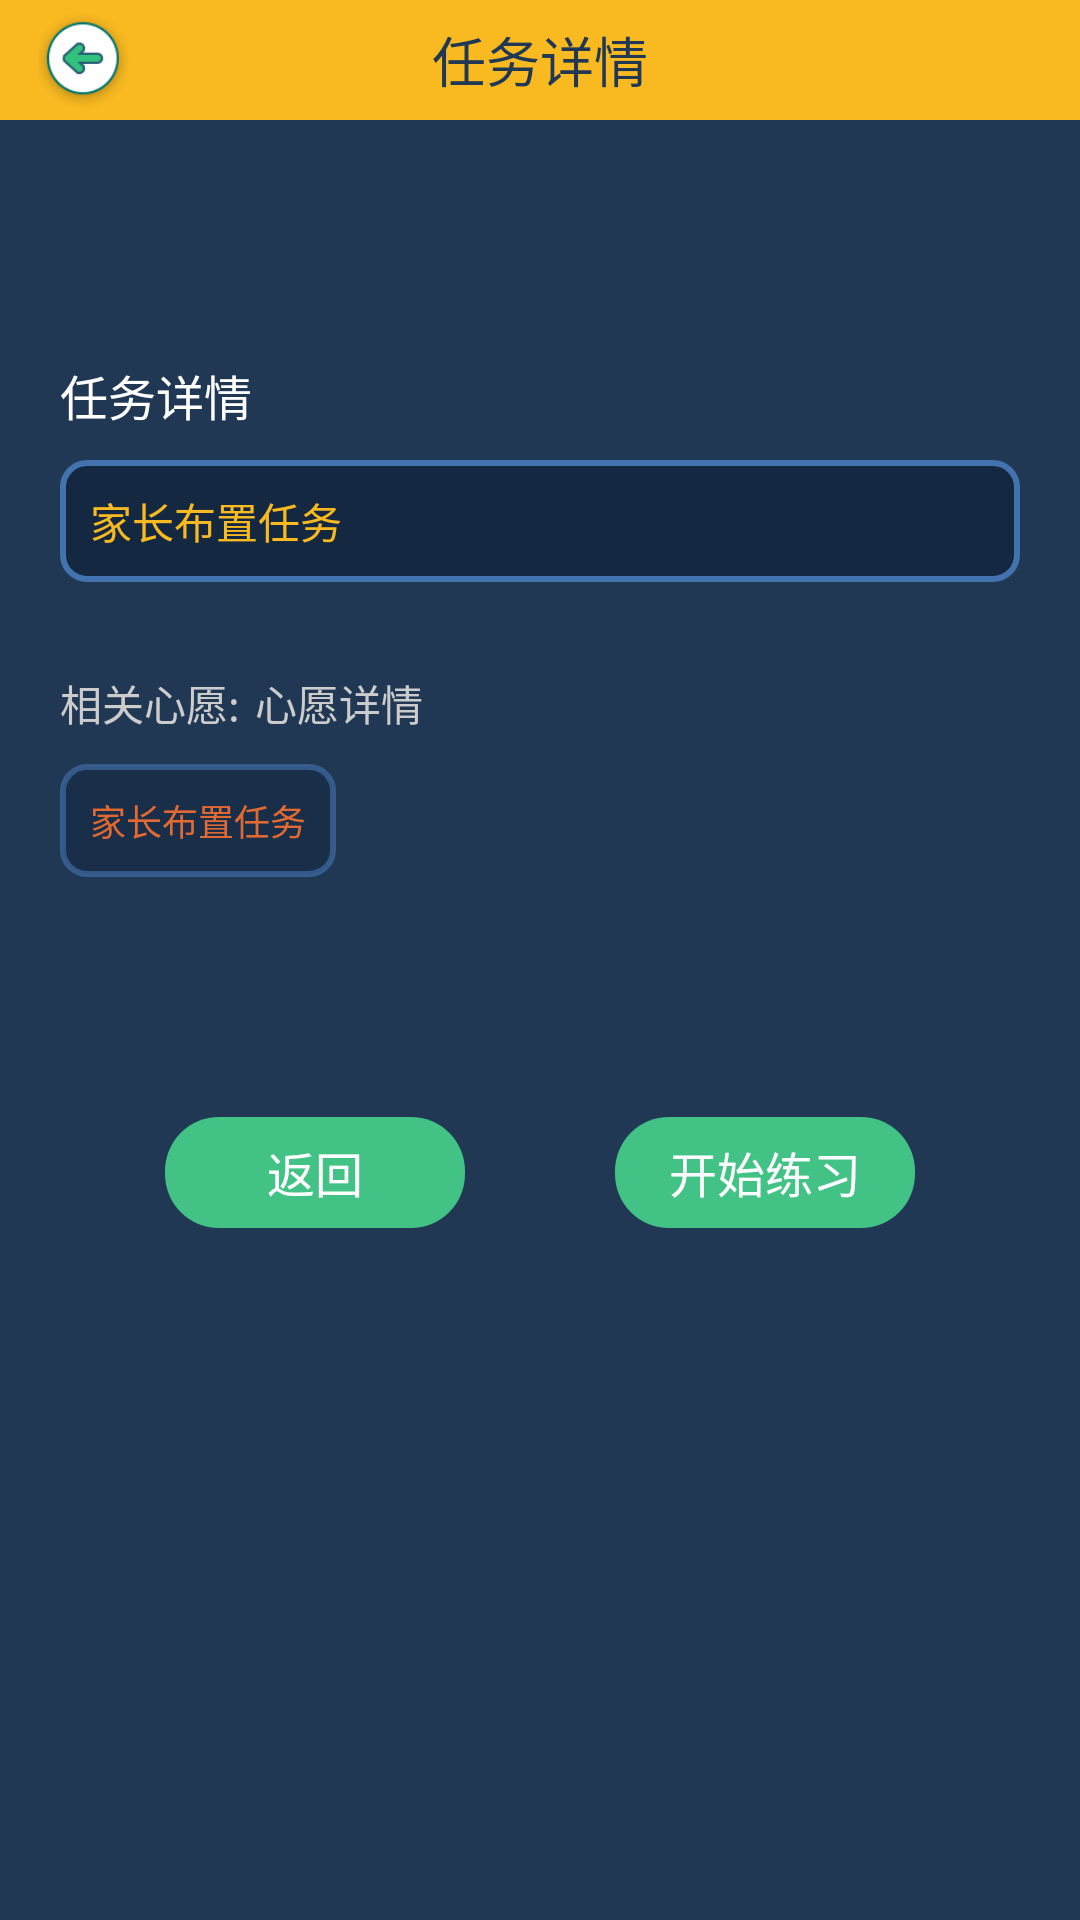

Named icons in this screenshot (1080px×1920px) and their bounding boxes, (x1, y1, x2, y2):
back: (45, 22, 121, 99)
